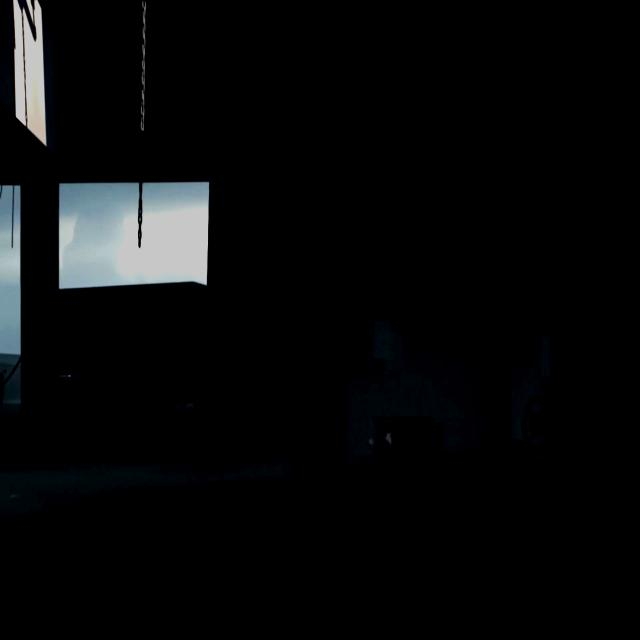boy: (366, 423, 392, 484)
zombie: (0, 370, 7, 404)
